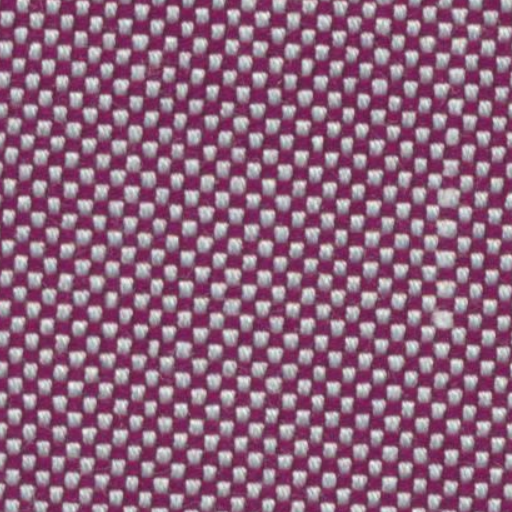TuoSha: (425, 96, 482, 450)
